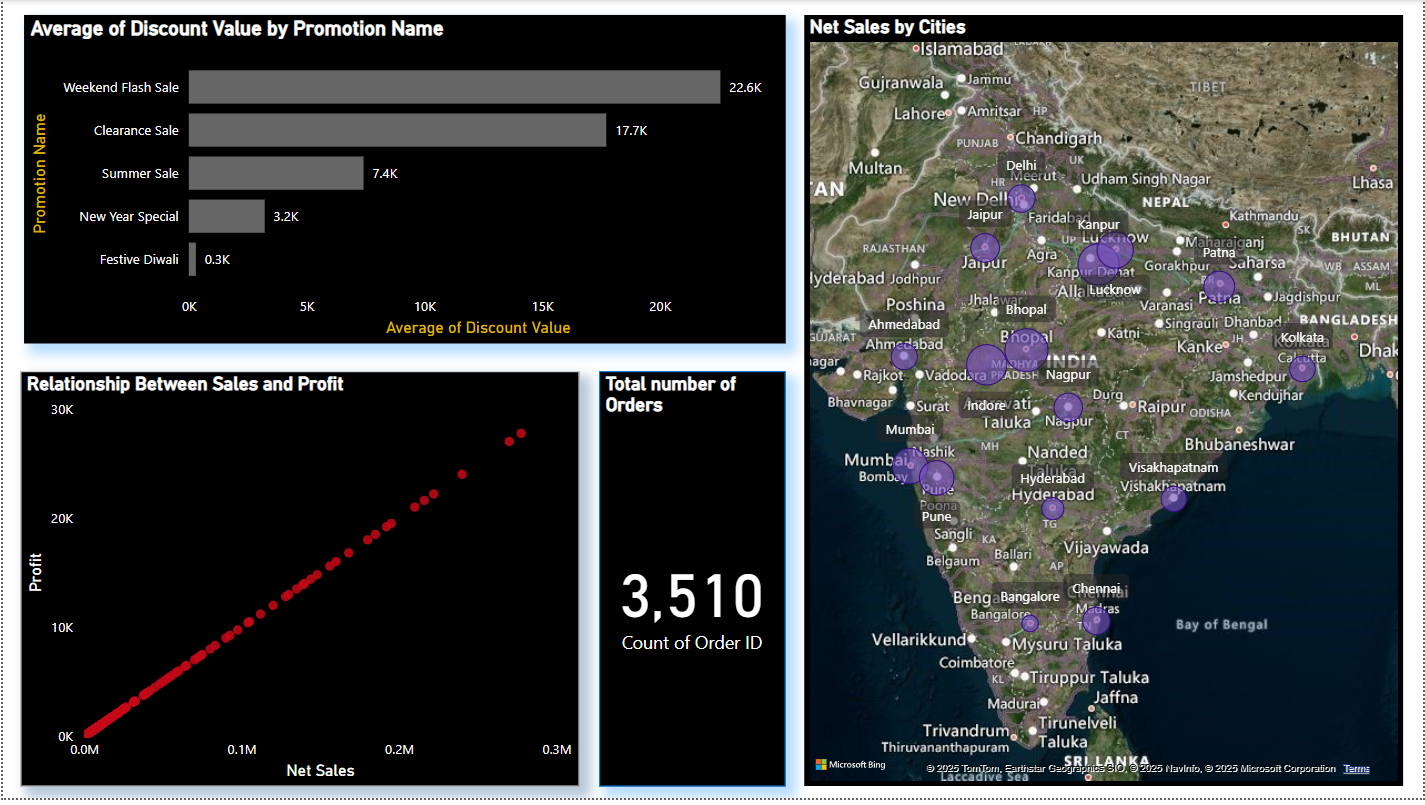

This screenshot's page, from the dashboard's own definition file:
{"tool":"powerbi","page":{"name":"Sales v/s Profit + avg discount  in each category + Total number of sales + Net sales by cities","canvas":[1280,720],"ordinal":2},"visuals":[{"type":"scatterChart","title":"Relationship Between Sales and Profit","fields":{"X":["Fact table.Net Sales"],"Y":["Fact table.Profit"]},"box":[16.2,334.6,503.8,374.4],"z":0},{"type":"barChart","fields":{"Category":["Dim Promotion.Promotion Name"],"Y":["Avg(Fact table.Discount Value)"]},"box":[18.7,13.7,686.7,296.1],"z":1000},{"type":"card","title":"Total number of Orders","fields":{"Values":["Count(Fact table.Order ID)"]},"box":[537.4,334.6,167.9,374.4],"z":2000},{"type":"map","title":"Net Sales by Cities","fields":{"Category":["Dim Customers.City"],"Size":["Sum(Fact table.Net Sales)"]},"box":[722.7,13.7,539.9,695.4],"z":3000}]}

Visuals, with their boxes in screenshot pixels (x1, y1, x2, y2), scaled from the page's 1280x720 canvas onto the 1425x805 screenshot:
"Relationship Between Sales and Profit" scatterChart: l=18, t=374, r=579, b=793
barChart - Dim Promotion.Promotion Name x Avg(Fact table.Discount Value): l=21, t=15, r=785, b=346
"Total number of Orders" card: l=598, t=374, r=785, b=793
"Net Sales by Cities" map: l=805, t=15, r=1406, b=793
